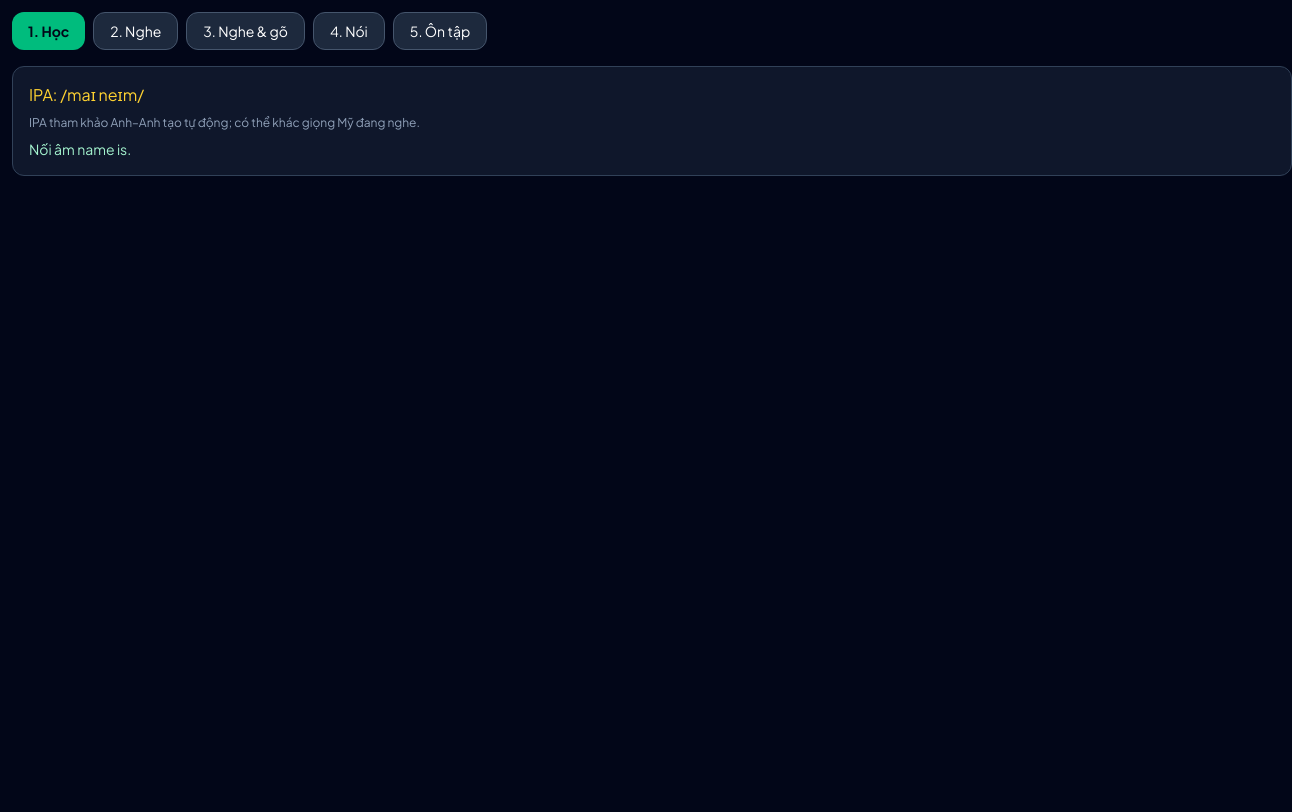
Test: supports speaking without recognition and never claims a pronunciation score
Click the button "4. Nói" at (349, 31), box [313, 12, 385, 50]
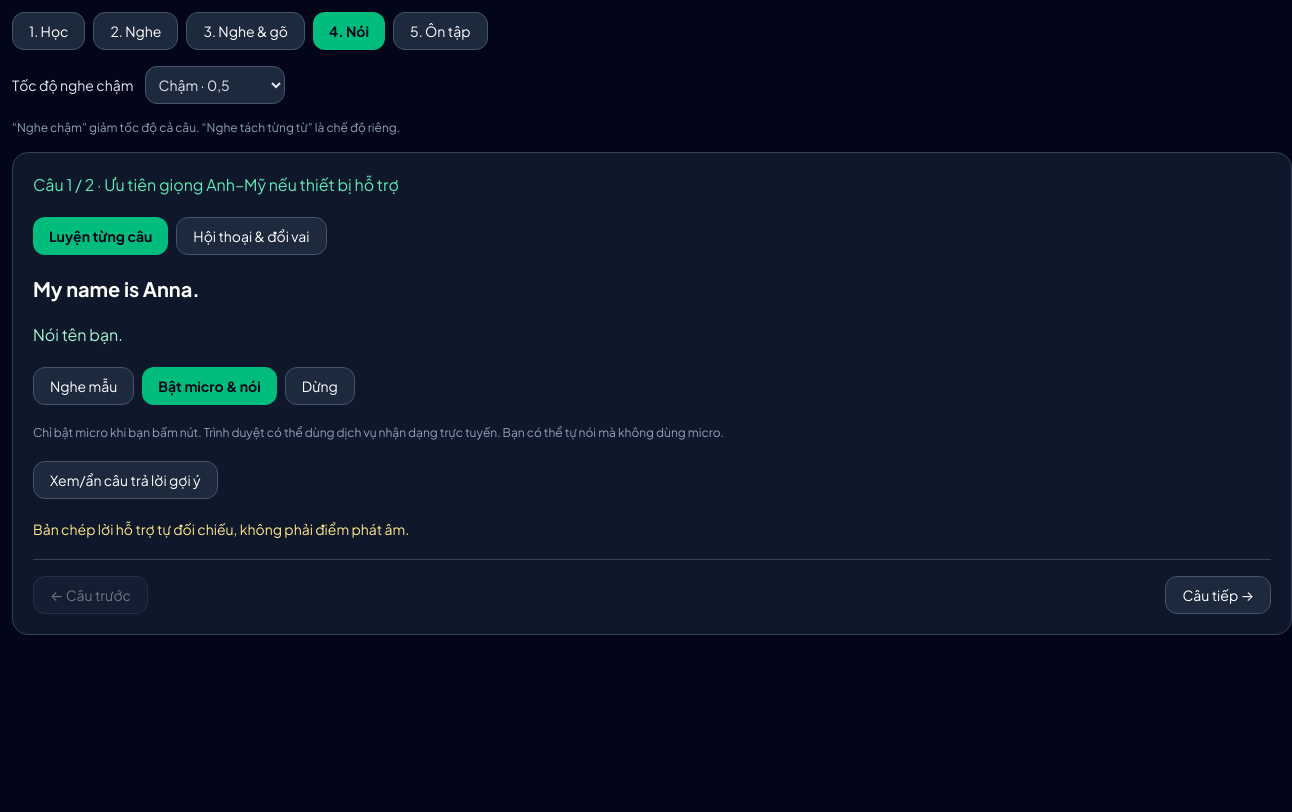
Expected: the button "Bật micro & nói" is shown
Click the button "Bật micro & nói" at (210, 386), box [142, 367, 277, 405]
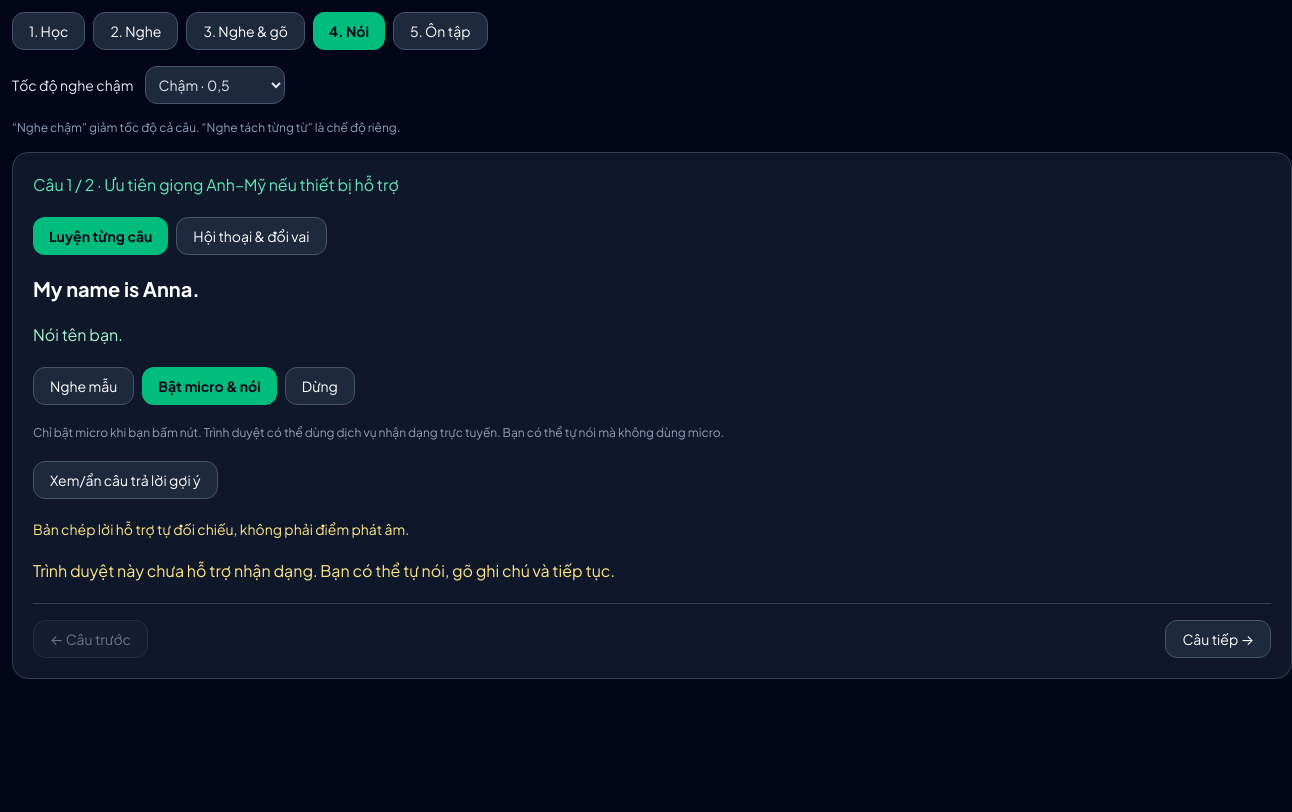
Expected: the text "không phải điểm phát âm" is shown, [33, 520, 409, 538]
Expected: the text "Trình duyệt này chưa hỗ trợ nhận dạng" is shown, [33, 560, 615, 581]
